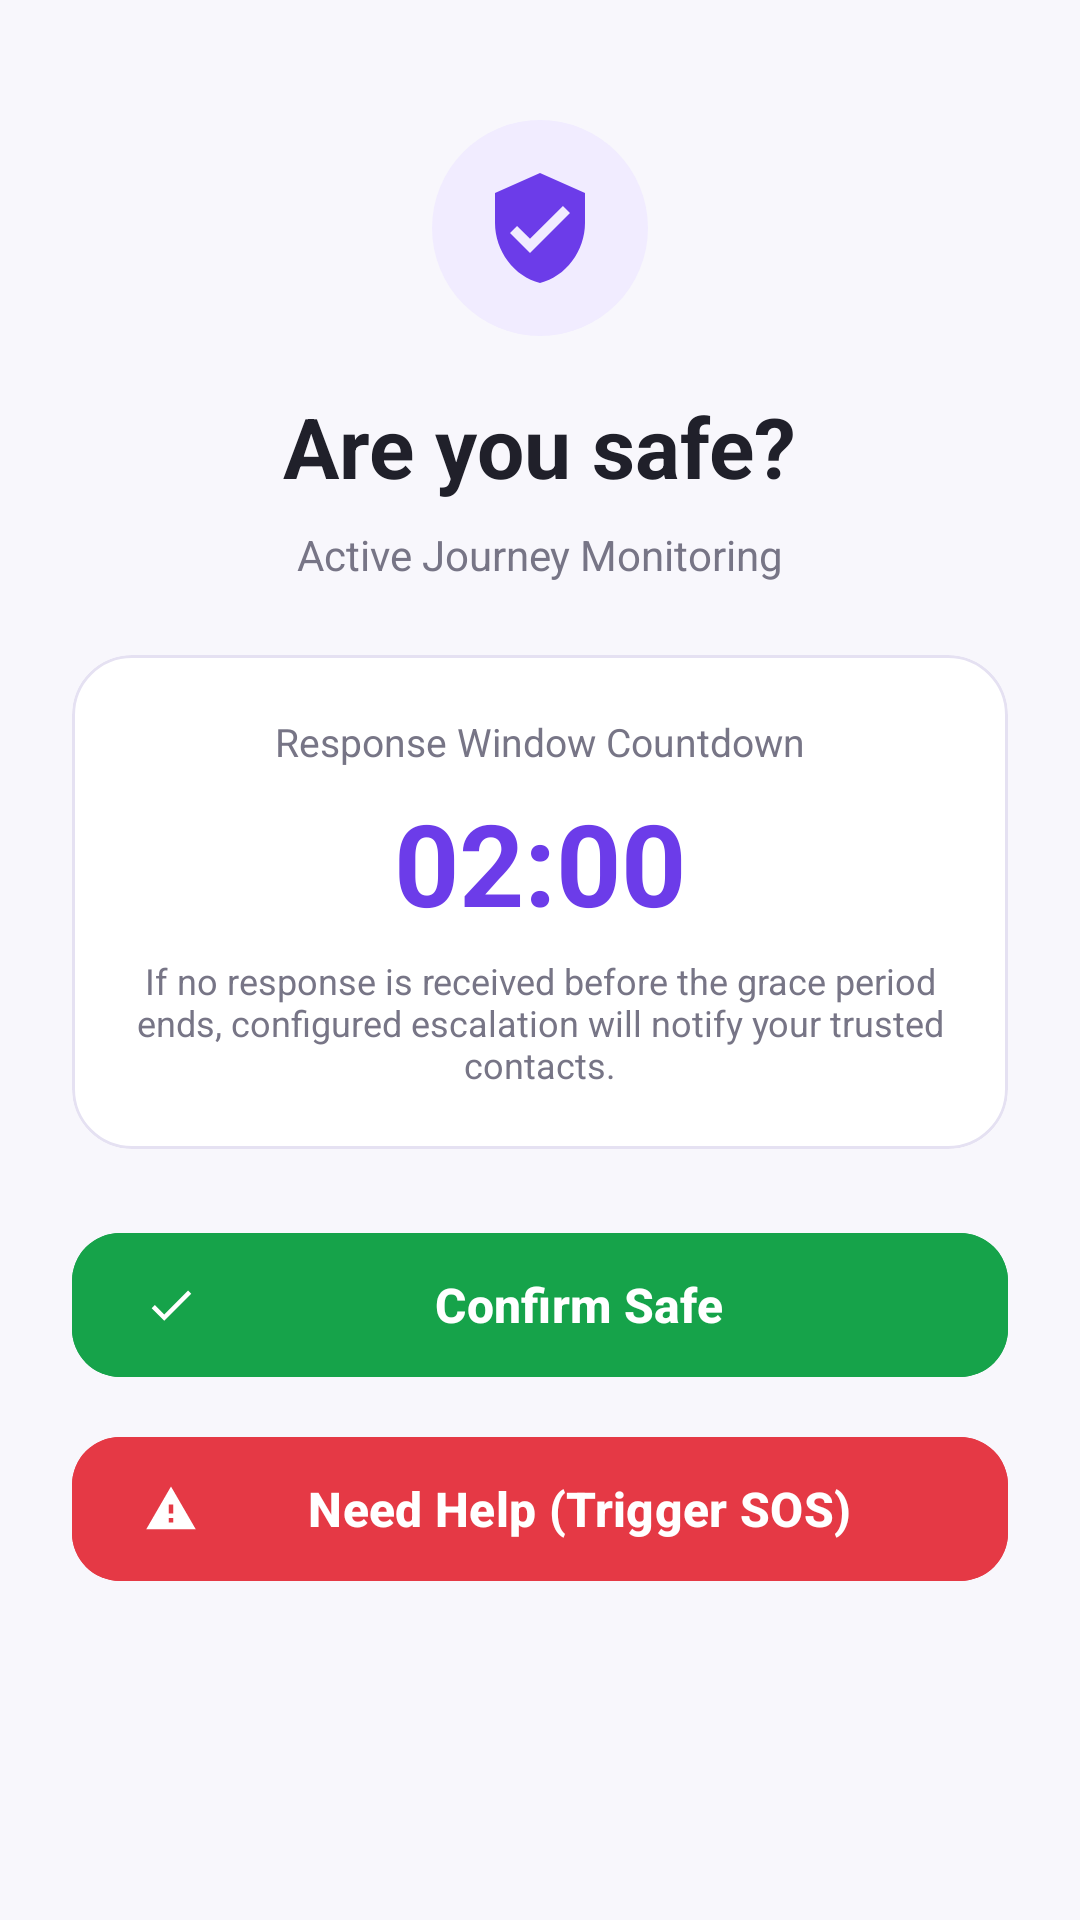

Locate icon controls on the screen. Image size 1080 x 1920, boxes as {"left": x1, "top": y1, "right": x2, "bottom": y2}.
Safety Check-in: {"left": 495, "top": 173, "right": 585, "bottom": 283}
